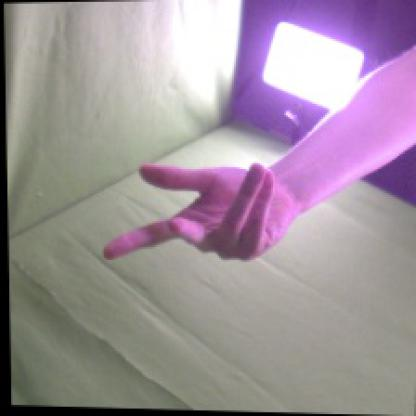Hand: (102, 162, 300, 261)
